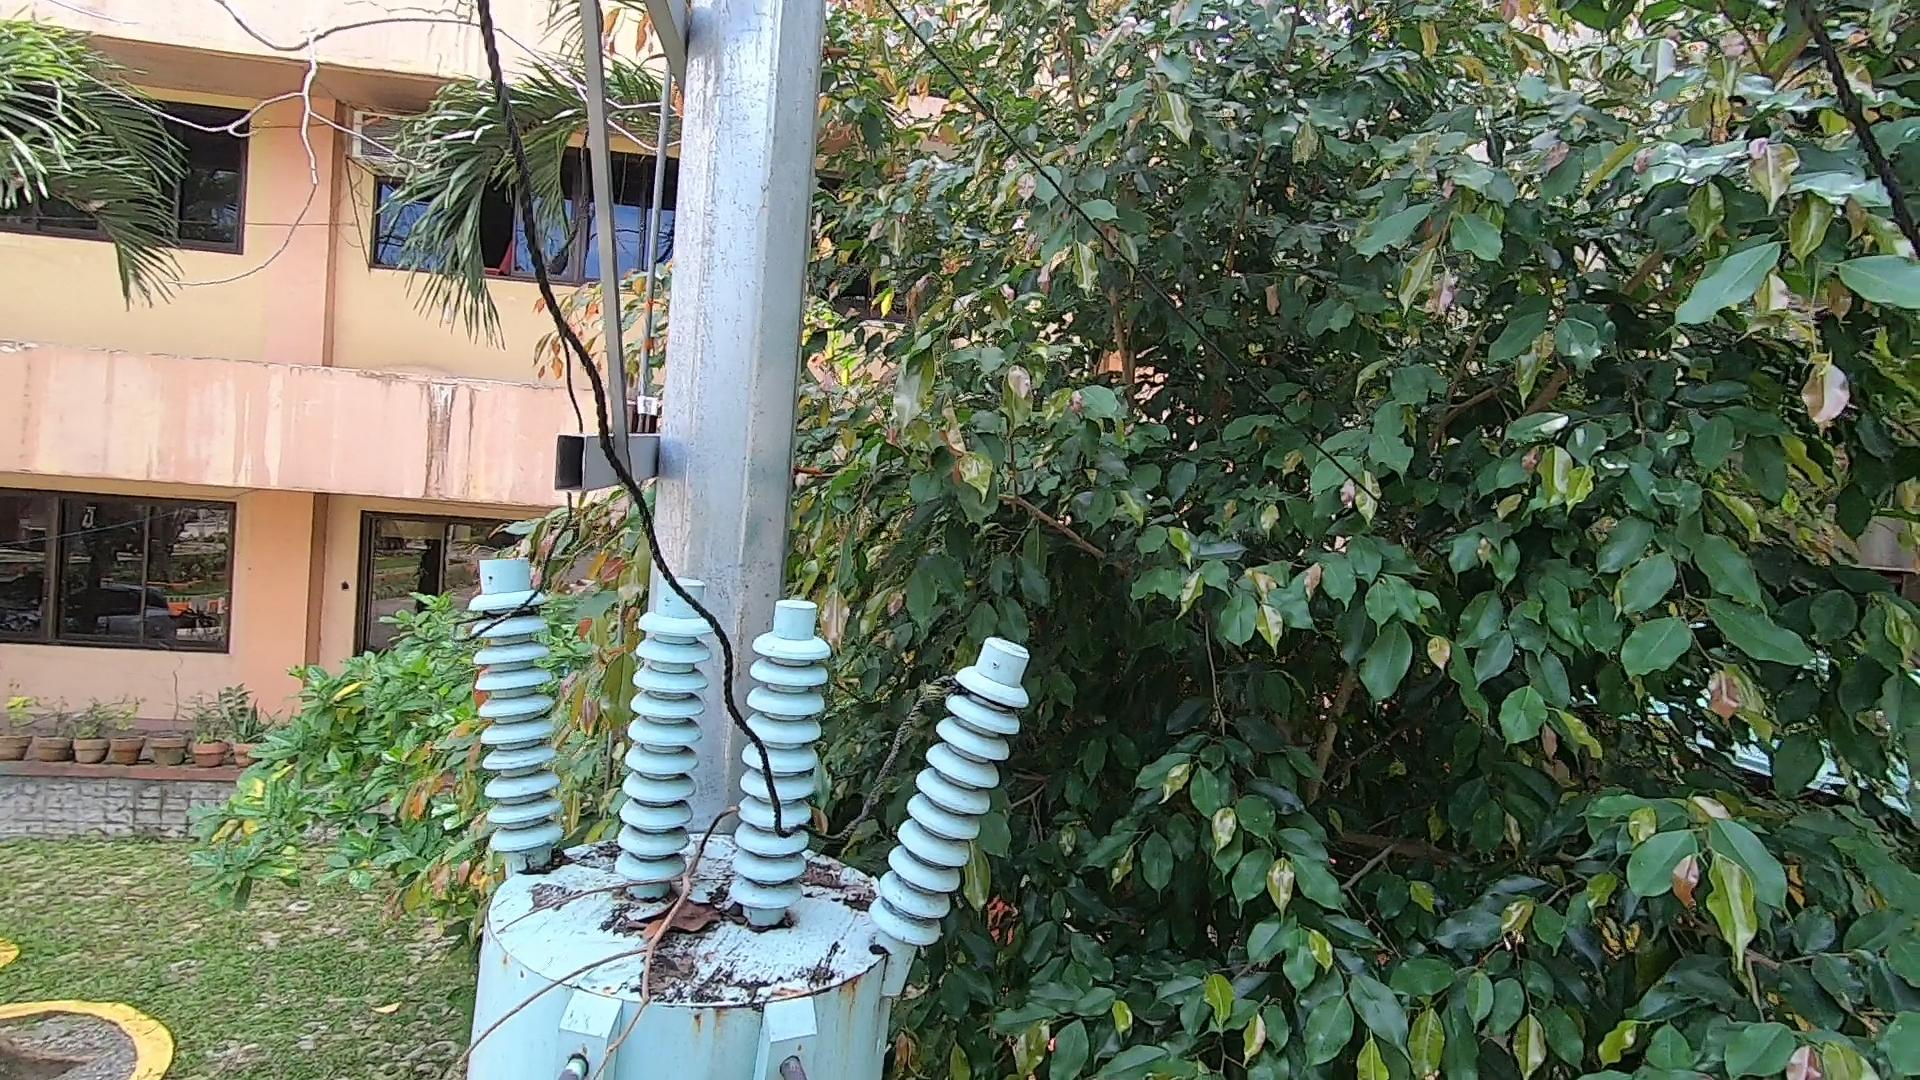leaf: (617, 887, 745, 948), (795, 852, 874, 916), (510, 844, 574, 878)
tree branch: (452, 781, 738, 1080)
